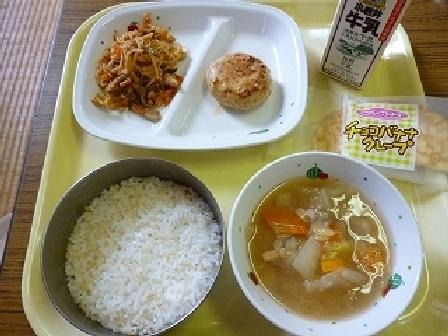Milk: (316, 0, 415, 79)
Rice: (49, 166, 226, 330)
Soups: (232, 160, 424, 331)
cooked food meat with vegetables: (78, 14, 185, 116)
cutlet: (197, 47, 285, 130)
pastry: (308, 94, 447, 180)
